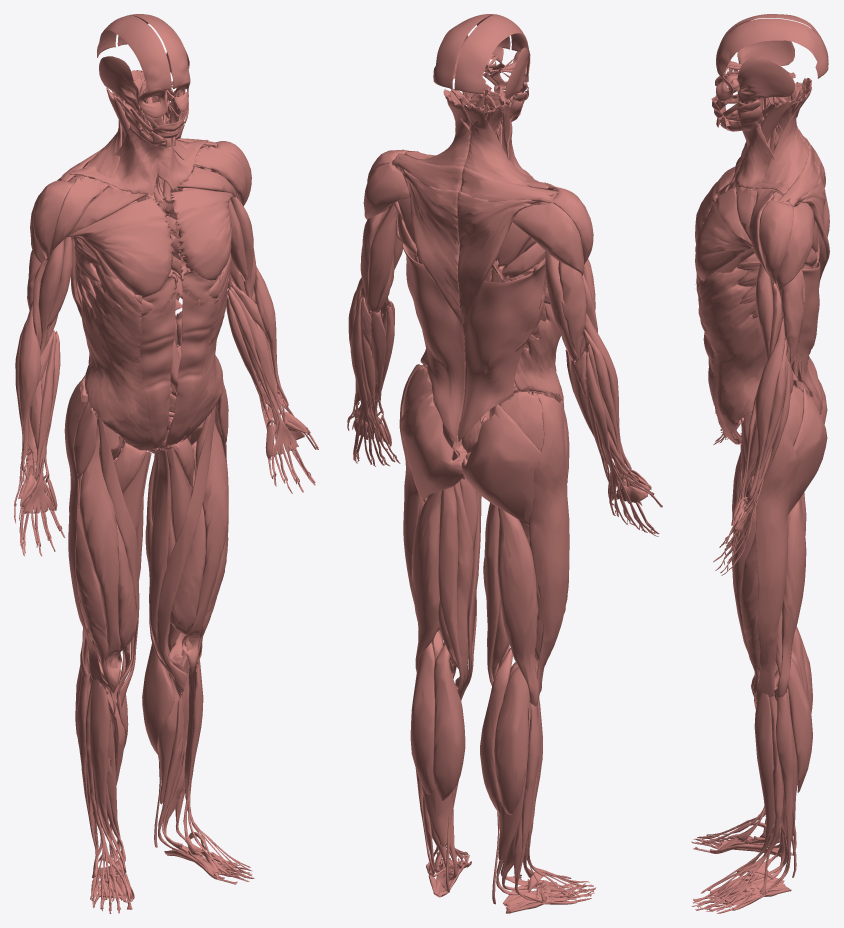
Rendered from muscles.glb.
3 views of the same model, side by side, from view 1: azimuth 30°, elevation 25°; view 2: azimuth 150°, elevation 25°; view 3: azimuth 270°, elevation 25° (orthographic). The views are drawn at different scales.
Parts seen in each view (by area): view 1: right external oblique, right pectoralis major, left pectoralis major, right rectus femoris, right rectus abdominis, left rectus abdominis, left rectus femoris, left sartorius, right deltoid, left gracilis, right occipitofrontalis, right platysma (+41 smaller); view 2: right trapezius, right latissimus dorsi, right iliotibial tract, left trapezius, left gastrocnemius, right gastrocnemius, left latissimus dorsi, right gluteus maximus, right biceps femoris, left gluteus maximus, right deltoid, left biceps femoris (+28 smaller); view 3: left external oblique, left iliotibial tract, left deltoid, left pectoralis major, left trapezius, left biceps femoris, left occipitofrontalis, left gluteus maximus, left gastrocnemius, left tibialis anterior, left temporalis, left platysma (+29 smaller).
Part boxes in pixels (x1,y1,x2,y2): right external oblique: (81,264,176,453); right pectoralis major: (66,187,173,318); left pectoralis major: (171,166,236,298); right rectus femoris: (79,424,121,693); right rectus abdominis: (140,276,176,449); left rectus abdominis: (165,270,216,445); left rectus femoris: (182,412,228,674); left sartorius: (157,405,216,695); right deltoid: (30,176,109,263); left gracilis: (149,446,185,671); right occipitofrontalis: (97,15,171,93); right platysma: (69,124,165,195); right trapezius: (457,105,558,324); right latissimus dorsi: (457,256,546,441); right iliotibial tract: (529,394,569,699); left trapezius: (392,99,470,327); left gastrocnemius: (410,642,465,800); right gastrocnemius: (480,648,529,814); left latissimus dorsi: (396,217,465,442); right gluteus maximus: (461,404,541,526); right biceps femoris: (497,507,539,706); left gluteus maximus: (400,389,463,502); right deltoid: (512,182,593,275); left biceps femoris: (412,490,441,672); left external oblique: (695,267,767,444); left iliotibial tract: (755,421,798,704); left deltoid: (749,188,814,291); left pectoralis major: (695,184,756,296); left trapezius: (762,86,829,280); left biceps femoris: (775,499,806,697); left occipitofrontalis: (716,18,828,78); left gluteus maximus: (788,387,827,513); left gastrocnemius: (787,650,812,792); left tibialis anterior: (737,693,774,875); left temporalis: (736,58,794,105); left platysma: (720,121,788,194).
Size of the model in its own units: 0.6387 by 1.71 by 0.251.
